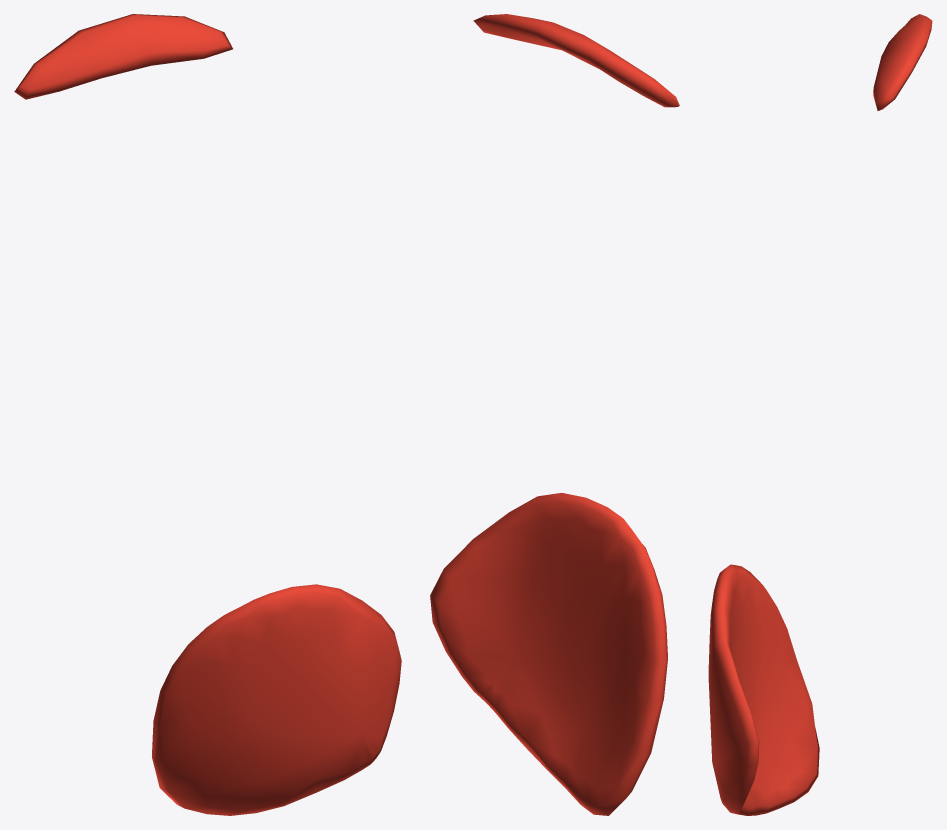
Rendered from Adductor_pollicis_brevis-Ending.l_Generated_Mesh_From_X3D.571.glb.
3 renders of one model, left to right at view 1: azimuth 30°, elevation 25°; view 2: azimuth 150°, elevation 25°; view 3: azimuth 270°, elevation 25°, orthographic. The views are drawn at different scales.
Visible parts, largest first — view 1: Adductor_pollicis_brevis-Ending.l_Generated_Mesh_From_X3D.57; view 2: Adductor_pollicis_brevis-Ending.l_Generated_Mesh_From_X3D.57; view 3: Adductor_pollicis_brevis-Ending.l_Generated_Mesh_From_X3D.57.
Boxes of the visible parts, left/top/right/bottom form: Adductor_pollicis_brevis-Ending.l_Generated_Mesh_From_X3D.57: left=14, top=14, right=401, bottom=815; Adductor_pollicis_brevis-Ending.l_Generated_Mesh_From_X3D.57: left=430, top=14, right=679, bottom=815; Adductor_pollicis_brevis-Ending.l_Generated_Mesh_From_X3D.57: left=708, top=14, right=932, bottom=815.
Bounding box in the file's own units: 0.00839 × 0.0199 × 0.00537.
